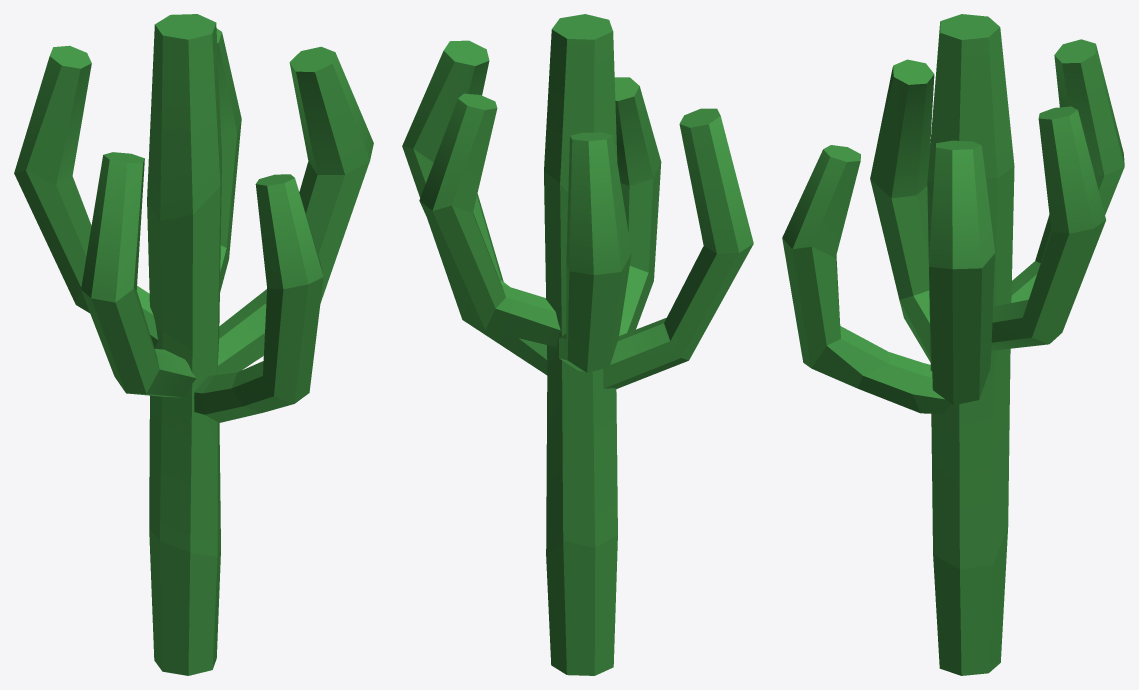
The model's file is Cactus_2_Light_Green.fbx.
3 renders of one model, left to right at view 1: azimuth 30°, elevation 25°; view 2: azimuth 150°, elevation 25°; view 3: azimuth 270°, elevation 25°, orthographic.
Visible parts, largest first — view 1: Cactus_2_Light_Green; view 2: Cactus_2_Light_Green; view 3: Cactus_2_Light_Green.
Boxes of the visible parts, box(x1,y1,x2,y2) form: Cactus_2_Light_Green: box(14, 14, 373, 675); Cactus_2_Light_Green: box(402, 14, 753, 675); Cactus_2_Light_Green: box(782, 14, 1124, 675).
Size of the model in its own units: 134 by 260 by 127.
